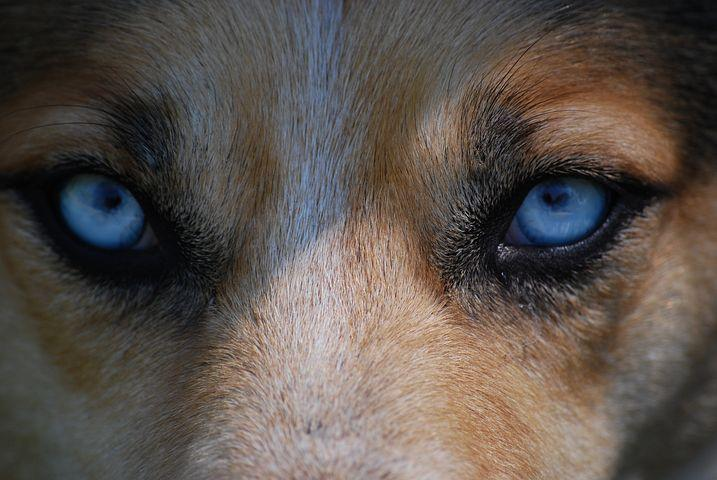Wolf: (5, 2, 717, 480)
